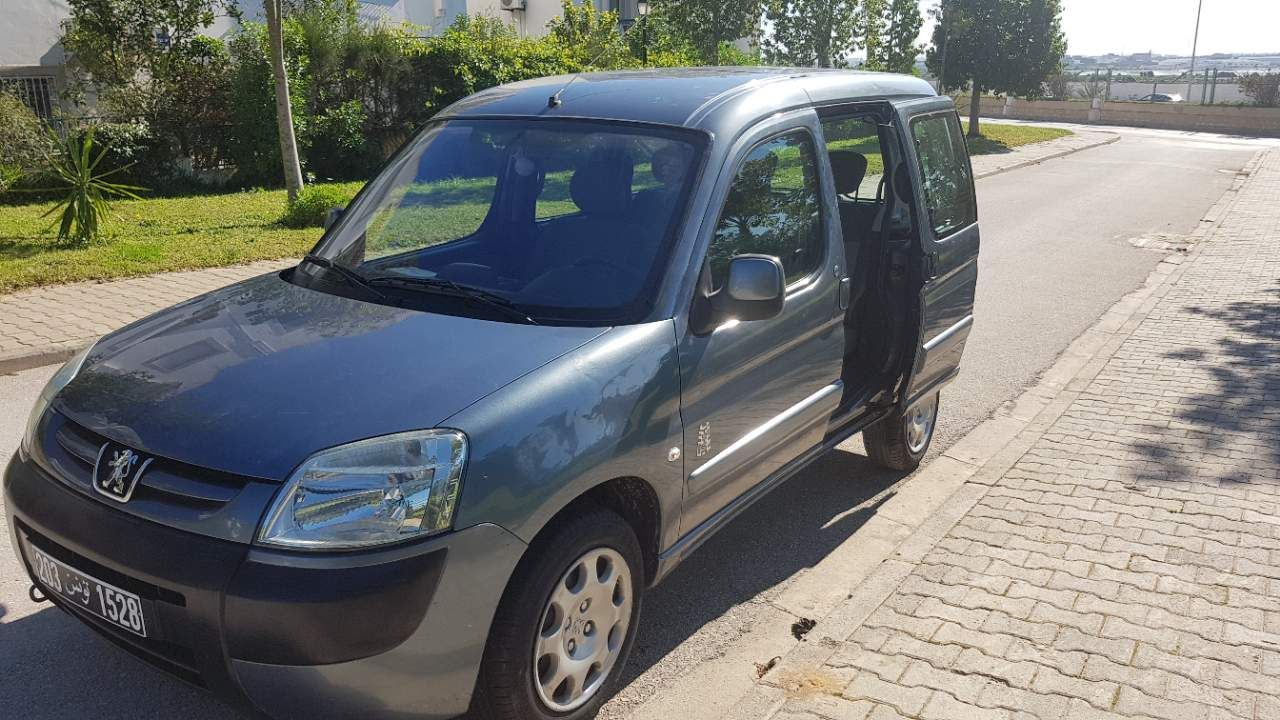LP: (29, 542, 151, 641)
